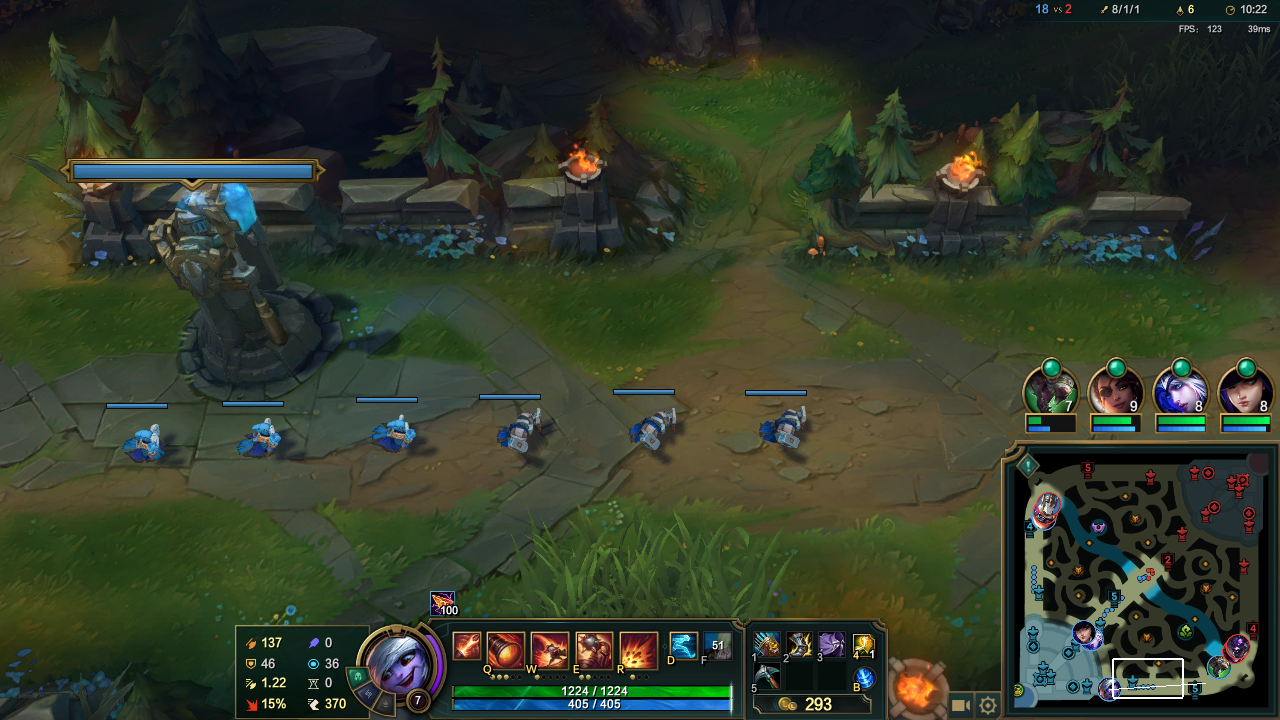WFXB: (116, 420, 185, 476), (621, 403, 691, 453), (753, 405, 821, 456), (485, 406, 551, 453), (362, 409, 422, 455), (235, 419, 290, 465)
